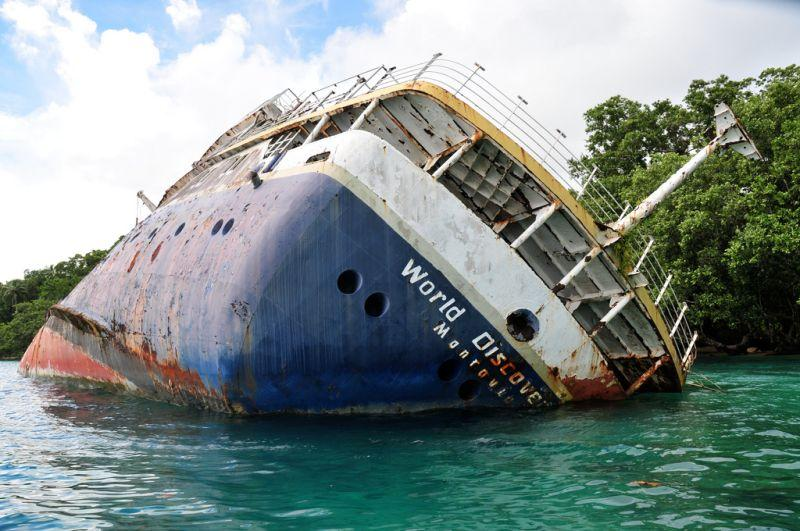rust: (140, 345, 210, 401), (547, 354, 622, 397), (49, 307, 115, 352)
